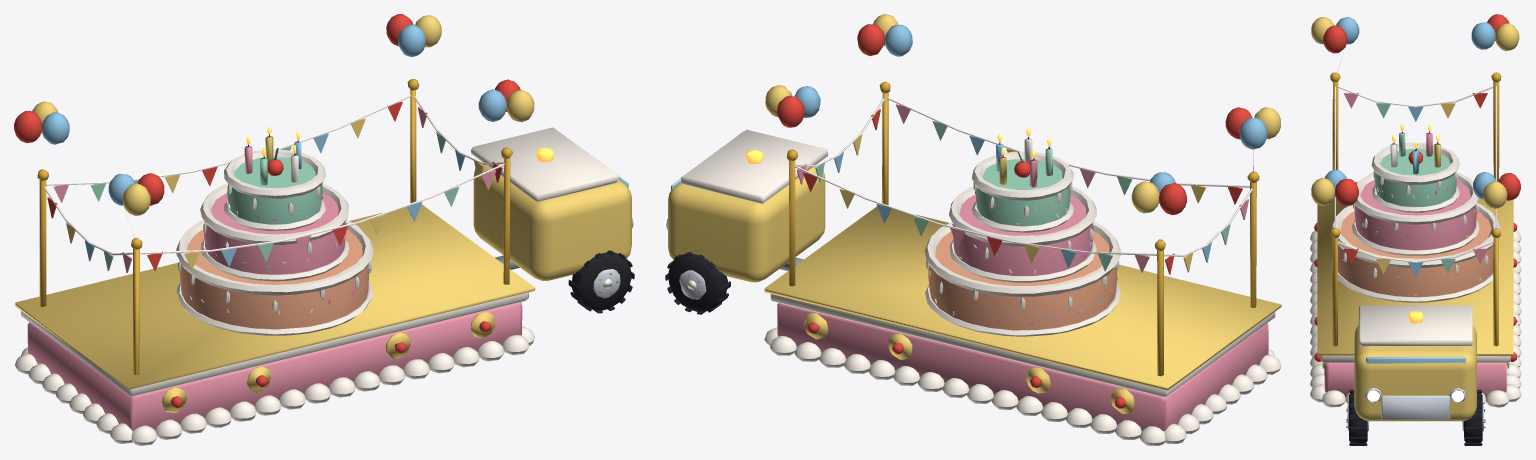
The model's file is parade_float.glb.
3 renders of one model, left to right at view 1: azimuth 30°, elevation 25°; view 2: azimuth 150°, elevation 25°; view 3: azimuth 270°, elevation 25°, orthographic. The views are drawn at different scales.
Visible parts, largest first — view 1: parade_float; view 2: parade_float; view 3: parade_float.
Part boxes in pixels (x1,y1,x2,y2): parade_float: (14,14,635,445); parade_float: (664,14,1281,445); parade_float: (1310,14,1521,445).
Bounding box in the file's own units: 7.08 × 3.19 × 2.76.
1 material, 1 textured.
